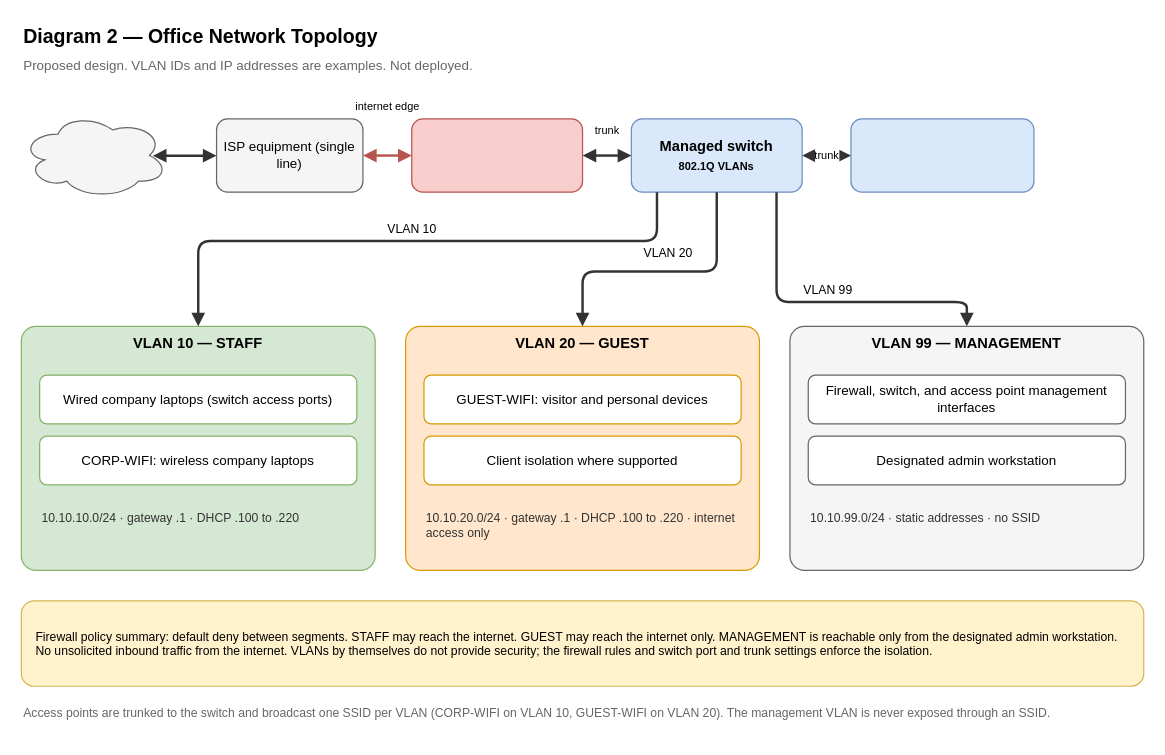
This 1165x755 diagram has some shape labels left out. The centre of each missing label's shape, as x and y in pixels:
"Firewall routing, DHCP, DNS, rules" goes at (497,155).
"Internet" goes at (94,155).
"Wireless access points count set by site survey" goes at (942,155).
